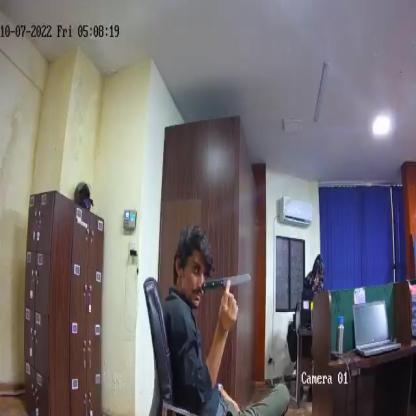Knife: (203, 271, 253, 296)
